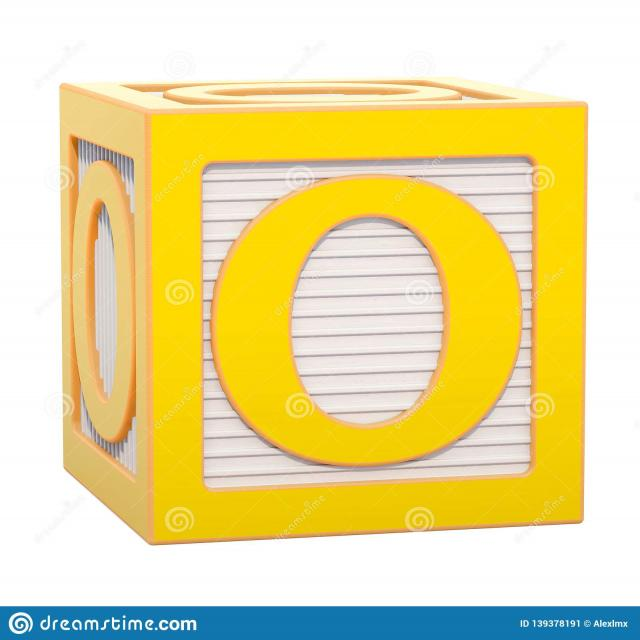O: (205, 171, 530, 478)
